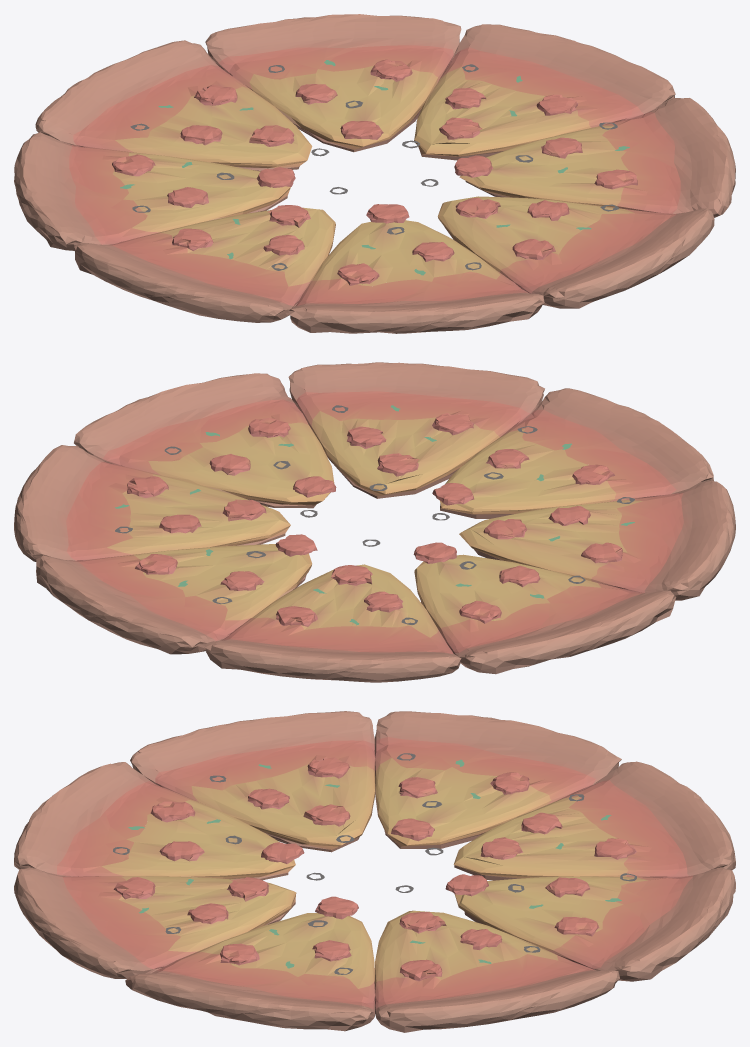
The model's file is pizza.glb.
3 renders of one model, top to bottom at view 1: azimuth 30°, elevation 25°; view 2: azimuth 150°, elevation 25°; view 3: azimuth 270°, elevation 25°, orthographic.
Size of the model in its own units: 0.6074 by 0.0307 by 0.6074.
